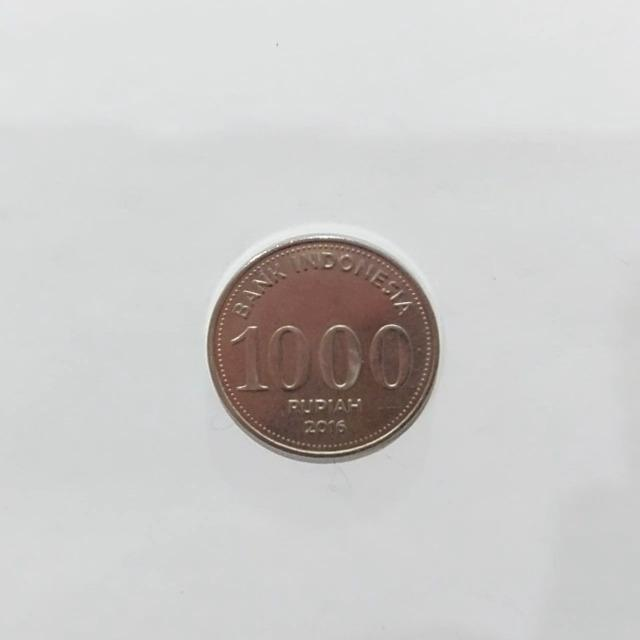Rp100: (204, 226, 441, 464)
